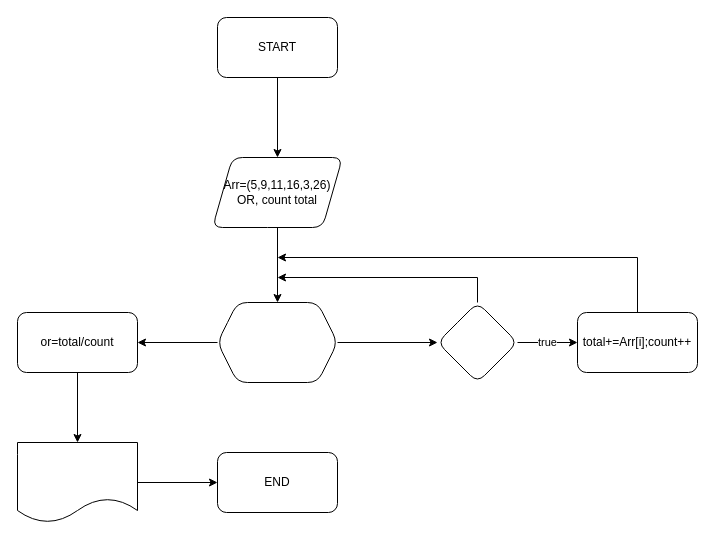
The diagram is 715 pixels wide and 540 high, and some of its shapes have lost their labels. Each missing label, with the centre of its shape:
"Arr[i]%2==1" belongs at point (477, 342).
"i=0;i<Arr.legth;i++" belongs at point (277, 342).
"print(or)" belongs at point (77, 482).
